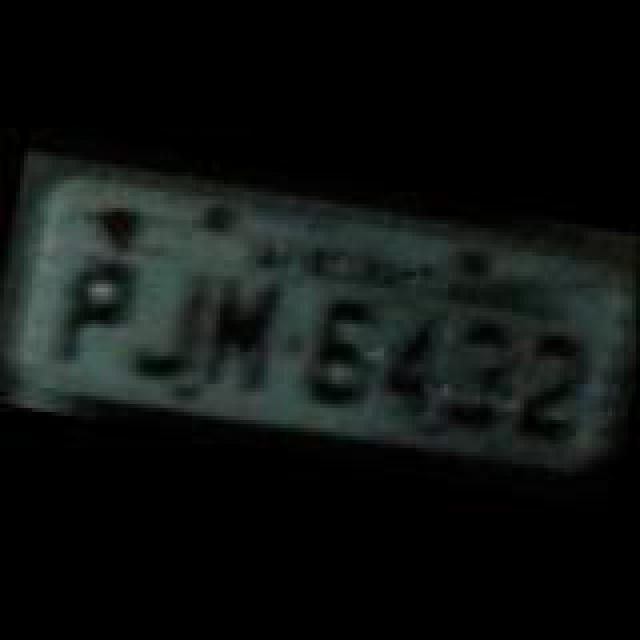2: (516, 328, 600, 448)
3: (446, 310, 526, 434)
4: (380, 306, 456, 422)
5: (302, 290, 382, 414)
J: (122, 252, 218, 388)
M: (192, 268, 284, 396)
P: (48, 242, 140, 374)
